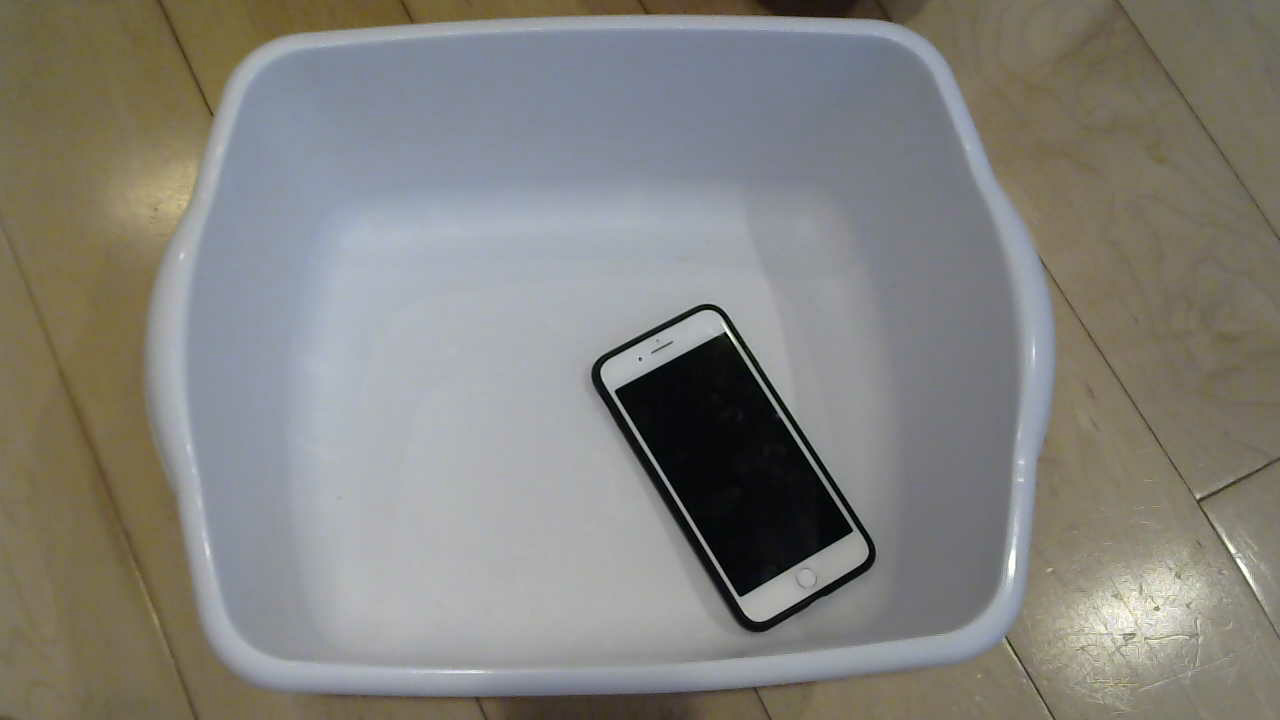phone: (600, 308, 879, 642)
